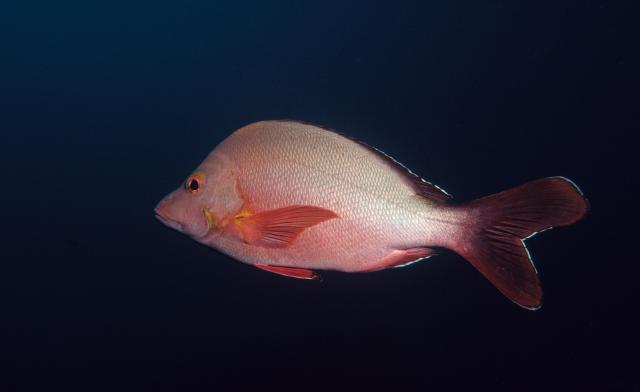Mulut: (146, 188, 184, 231)
Sirip Anal: (372, 234, 446, 276)
Sirip Dada: (234, 202, 342, 258)
Sirip Ekor: (466, 170, 596, 320)
Sirip Perut: (254, 260, 322, 290)
Sirip Punggung: (355, 126, 457, 212)
